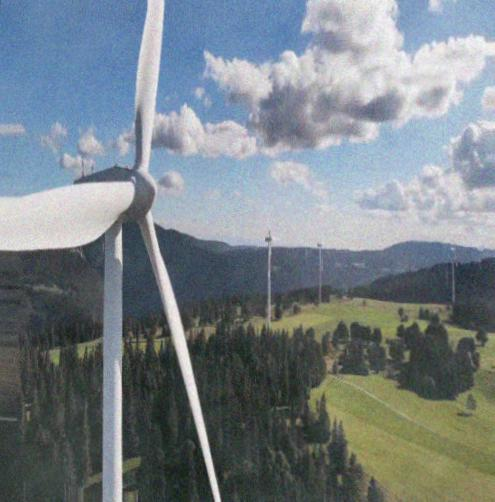wind turbine: (1, 1, 217, 502)
